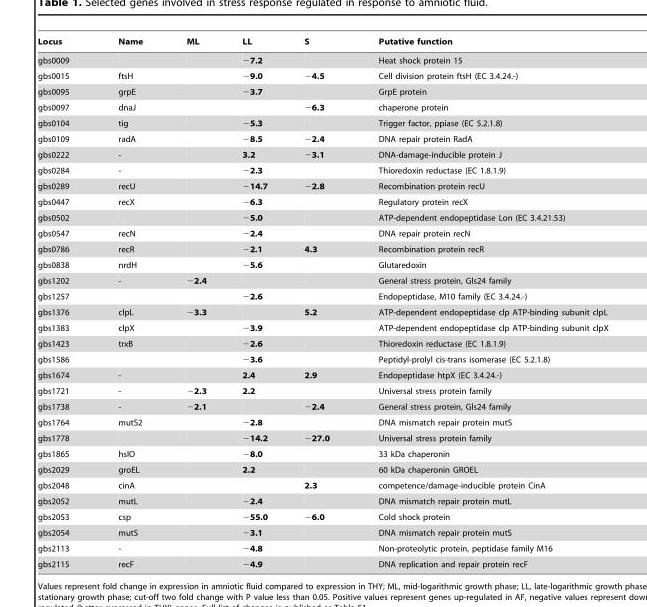table: (36, 36, 607, 568)
table column: (353, 36, 607, 568), (93, 36, 163, 568), (285, 36, 353, 568), (223, 36, 285, 568), (163, 36, 223, 568), (36, 36, 93, 568)
table column header: (36, 36, 607, 50)
table row: (36, 50, 607, 67), (36, 67, 607, 83), (36, 83, 607, 99), (36, 99, 607, 115), (36, 130, 607, 146), (36, 146, 607, 162), (36, 162, 607, 178), (36, 193, 607, 209), (36, 209, 607, 225), (36, 225, 607, 241), (36, 256, 607, 272), (36, 272, 607, 288), (36, 288, 607, 304), (36, 319, 607, 335), (36, 335, 607, 351), (36, 351, 607, 367), (36, 382, 607, 398), (36, 398, 607, 414), (36, 414, 607, 430), (36, 445, 607, 461), (36, 461, 607, 477), (36, 477, 607, 493), (36, 508, 607, 524), (36, 524, 607, 540), (36, 540, 607, 556), (36, 115, 607, 130), (36, 178, 607, 193), (36, 241, 607, 256), (36, 304, 607, 319), (36, 367, 607, 382), (36, 430, 607, 445), (36, 493, 607, 508), (36, 36, 607, 50), (36, 556, 607, 568)
